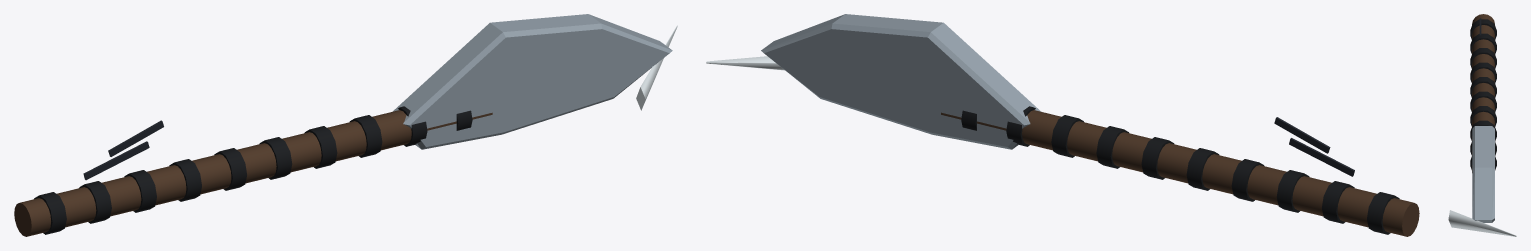
The model's file is fantasy-lab-temple-glaive-v1.glb.
3 views of the same model, side by side, from view 1: azimuth 30°, elevation 25°; view 2: azimuth 150°, elevation 25°; view 3: azimuth 270°, elevation 25° (orthographic). The views are drawn at different scales.
Parts seen in each view (by area): view 1: Temple Glaive; view 2: Temple Glaive; view 3: Temple Glaive.
Part boxes in pixels (x1,y1,x2,y2): Temple Glaive: (14, 14, 677, 236); Temple Glaive: (706, 14, 1419, 236); Temple Glaive: (1448, 14, 1516, 236).
Size of the model in its own units: 3.32 by 0.4768 by 0.4373.
